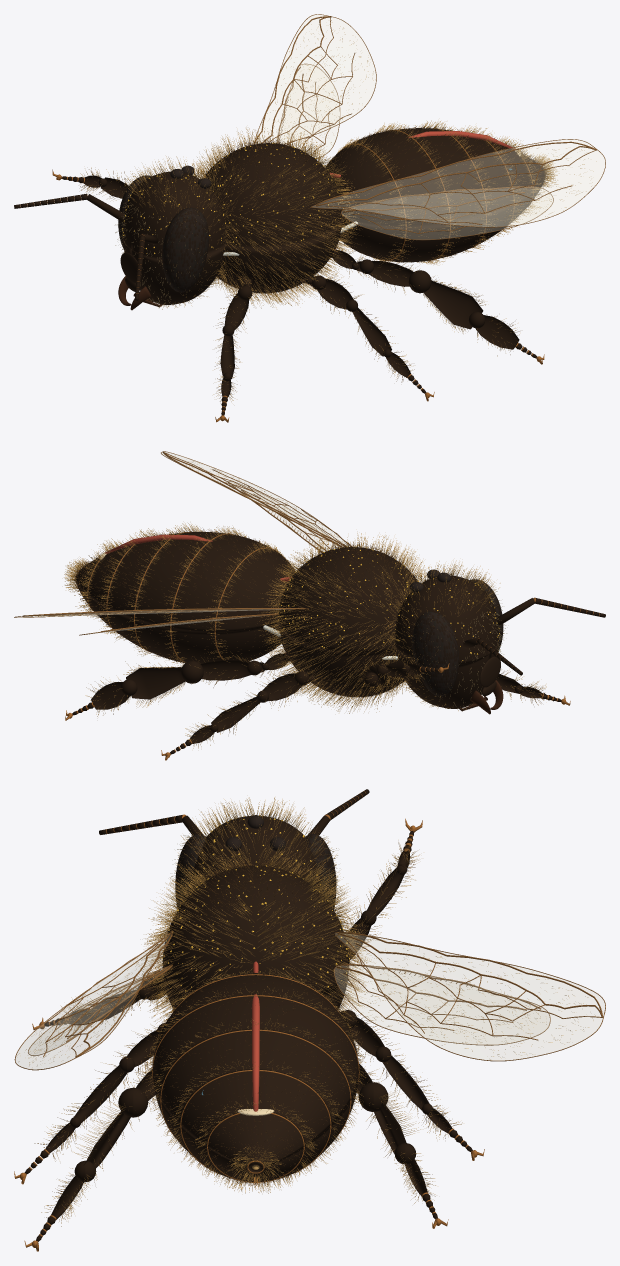
File: bee-study-mobile.glb
3 views of the same model, one above another, from view 1: azimuth 30°, elevation 25°; view 2: azimuth 150°, elevation 25°; view 3: azimuth 270°, elevation 25° (orthographic). The views are drawn at different scales.
Parts seen in each view (by area): view 1: wing_membrane_-1_False, thorax_roof, wing_membrane_1_False, wing_membrane_-1_True, thorax_dorsal_setae, head_roof, tergite_2, thorax_floor, tergite_1, tergite_3, wing_membrane_1_True, compound_eye_-1 (+25 smaller); view 2: thorax_roof, thorax_dorsal_setae, head_roof, tergite_2, tergite_1, thorax_floor, tergite_3, compound_eye_1, thorax_ventral_setae, leg_3_1_coxa_trochanter_femur_tibia, tergite_4, head_floor (+30 smaller); view 3: wing_membrane_1_False, thorax_roof, thorax_dorsal_setae, wing_membrane_1_True, tergite_4, tergite_3, tergite_5, wing_membrane_-1_False, head_roof, tergite_6, tergite_2, head_dorsal_setae (+34 smaller).
Boxes of the visible parts, left/top/right/bottom form: wing_membrane_-1_False: left=313, top=140, right=604, bottom=226; thorax_roof: left=204, top=143, right=343, bottom=249; wing_membrane_1_False: left=256, top=15, right=375, bottom=143; wing_membrane_-1_True: left=342, top=187, right=552, bottom=239; thorax_dorsal_setae: left=193, top=128, right=359, bottom=256; head_roof: left=122, top=171, right=226, bottom=260; tergite_2: left=351, top=130, right=449, bottom=228; thorax_floor: left=217, top=218, right=343, bottom=293; tergite_1: left=326, top=144, right=404, bottom=228; tergite_3: left=391, top=128, right=485, bottom=224; wing_membrane_1_True: left=280, top=65, right=339, bottom=157; compound_eye_-1: left=162, top=207, right=208, bottom=292; thorax_roof: left=278, top=547, right=417, bottom=653; thorax_dorsal_setae: left=259, top=533, right=427, bottom=659; head_roof: left=395, top=575, right=498, bottom=664; tergite_2: left=171, top=534, right=274, bottom=631; tergite_1: left=216, top=548, right=294, bottom=631; thorax_floor: left=278, top=623, right=404, bottom=697; tergite_3: left=135, top=532, right=225, bottom=627; compound_eye_1: left=412, top=611, right=458, bottom=696; thorax_ventral_setae: left=258, top=622, right=409, bottom=713; leg_3_1_coxa_trochanter_femur_tibia: left=126, top=653, right=287, bottom=699; tergite_4: left=107, top=533, right=181, bottom=618; head_floor: left=395, top=642, right=498, bottom=708; wing_membrane_1_False: left=335, top=933, right=604, bottom=1060; thorax_roof: left=162, top=865, right=348, bottom=993; thorax_dorsal_setae: left=142, top=847, right=371, bottom=1002; wing_membrane_1_True: left=334, top=966, right=549, bottom=1043; tergite_4: left=161, top=1029, right=350, bottom=1124; tergite_3: left=153, top=996, right=358, bottom=1098; tergite_5: left=180, top=1069, right=331, bottom=1146; wing_membrane_-1_False: left=15, top=935, right=170, bottom=1069; head_roof: left=189, top=815, right=322, bottom=894; tergite_6: left=206, top=1112, right=305, bottom=1167; tergite_2: left=154, top=975, right=357, bottom=1055; head_dorsal_setae: left=170, top=797, right=340, bottom=902.
Bounding box in the file's own units: 6.08 × 2.48 × 4.83.
